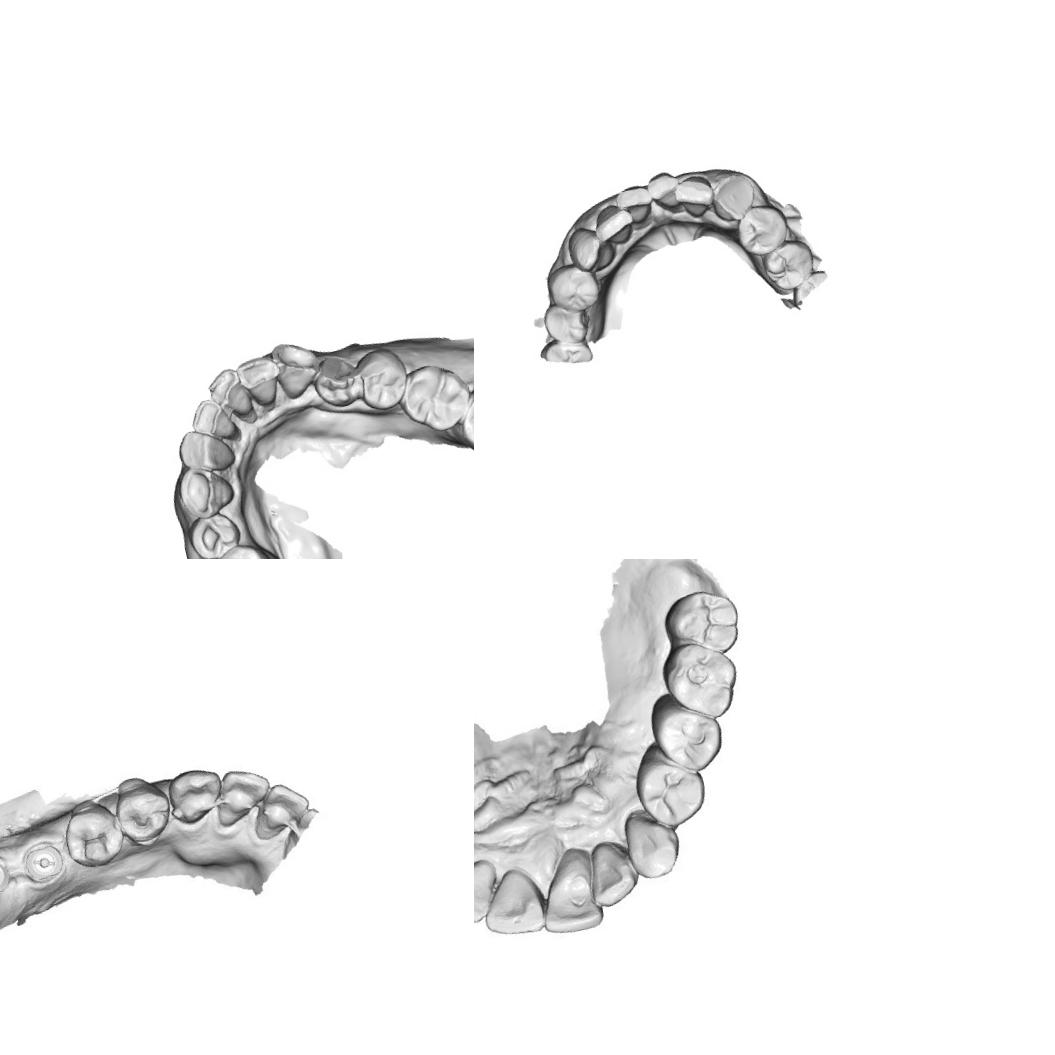canine: (615, 802, 685, 886), (170, 460, 241, 524), (164, 763, 229, 832), (267, 335, 328, 405), (562, 220, 618, 278), (706, 168, 761, 226)
implant: (0, 842, 16, 904)
implant_minus: (15, 832, 71, 892)
incisor: (530, 842, 609, 934), (474, 867, 549, 940), (244, 774, 318, 842), (206, 760, 277, 830), (582, 835, 645, 909), (174, 420, 242, 485), (202, 363, 258, 426), (232, 351, 288, 414), (186, 391, 242, 446), (668, 170, 720, 224), (588, 199, 640, 250), (474, 854, 507, 933), (611, 180, 658, 229), (642, 167, 686, 219)
molar: (656, 632, 744, 727), (394, 355, 474, 441), (661, 582, 747, 660), (450, 365, 474, 469), (536, 332, 595, 372)
premolar: (634, 682, 730, 780), (621, 733, 714, 833), (108, 775, 179, 852), (58, 796, 126, 873), (352, 345, 414, 414), (756, 234, 820, 297), (308, 346, 367, 414), (542, 257, 605, 320), (730, 198, 794, 260), (184, 508, 246, 559), (538, 298, 596, 351), (204, 537, 278, 559)
